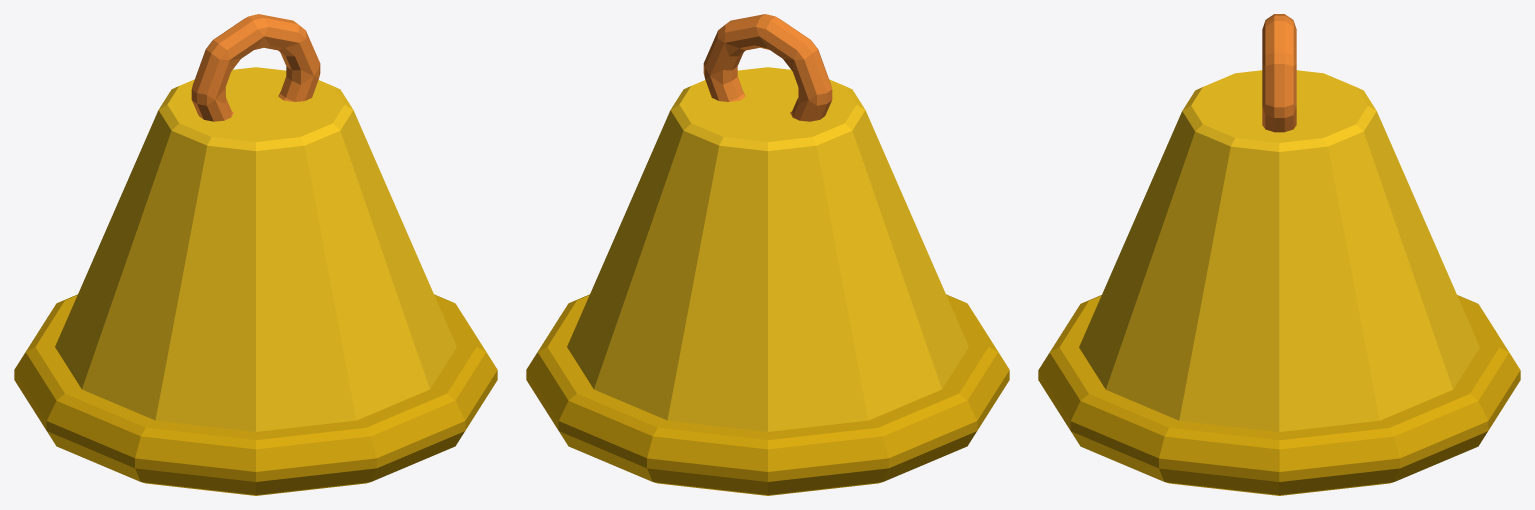
Rendered from bell.glb.
3 views of the same model, side by side, from view 1: azimuth 30°, elevation 25°; view 2: azimuth 150°, elevation 25°; view 3: azimuth 270°, elevation 25° (orthographic).
Visible parts, largest first — view 1: bell; view 2: bell; view 3: bell.
Part boxes in pixels (box(x1,y1,x2,y2)): bell: box(14, 14, 497, 495); bell: box(526, 14, 1009, 495); bell: box(1038, 14, 1520, 495).
Size of the model in its own units: 0.381 by 0.3353 by 0.381.
